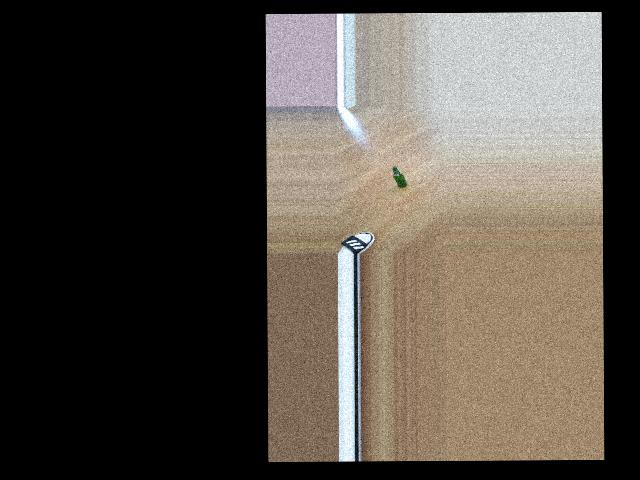beer: (392, 166, 406, 187)
